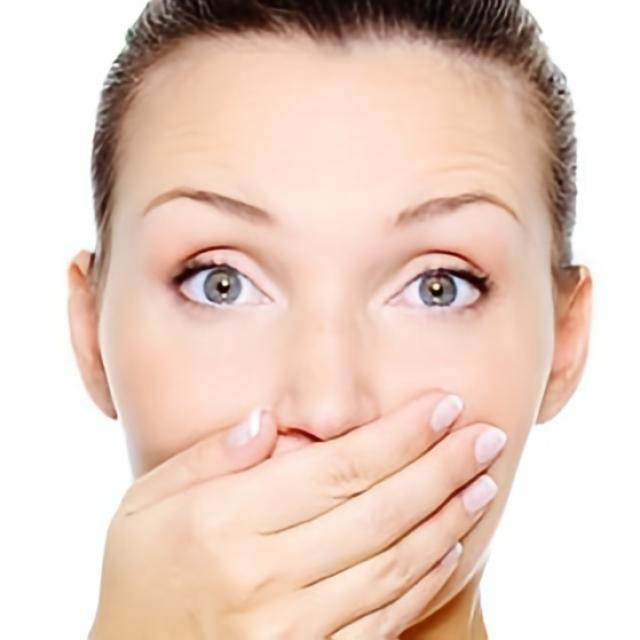surprise: (97, 28, 560, 640)
